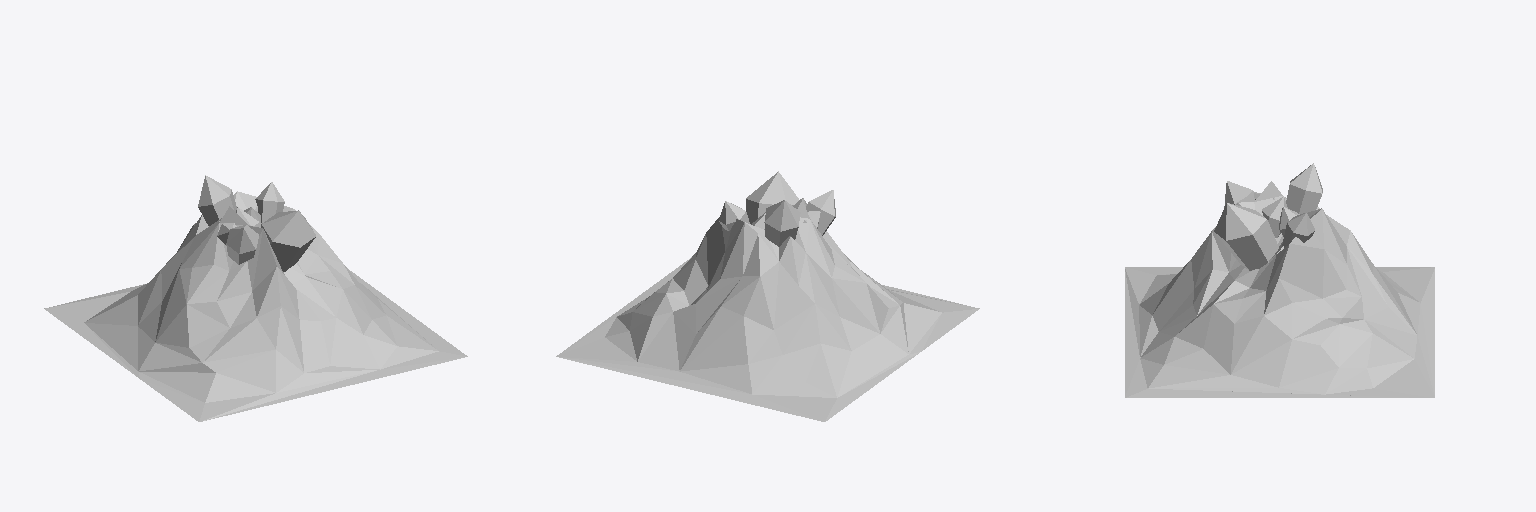
Rendered from PickedUpCrystal.obj.
3 views of the same model, side by side, from view 1: azimuth 30°, elevation 25°; view 2: azimuth 150°, elevation 25°; view 3: azimuth 270°, elevation 25° (orthographic).
Parts seen in each view (by area): view 1: polySurface8; view 2: polySurface8; view 3: polySurface8.
Part boxes in pixels (left/top/right/bottom): polySurface8: left=44, top=175, right=467, bottom=421; polySurface8: left=556, top=171, right=979, bottom=421; polySurface8: left=1125, top=163, right=1434, bottom=397.
Bounding box in the file's own units: 3.59 × 1.96 × 3.59.